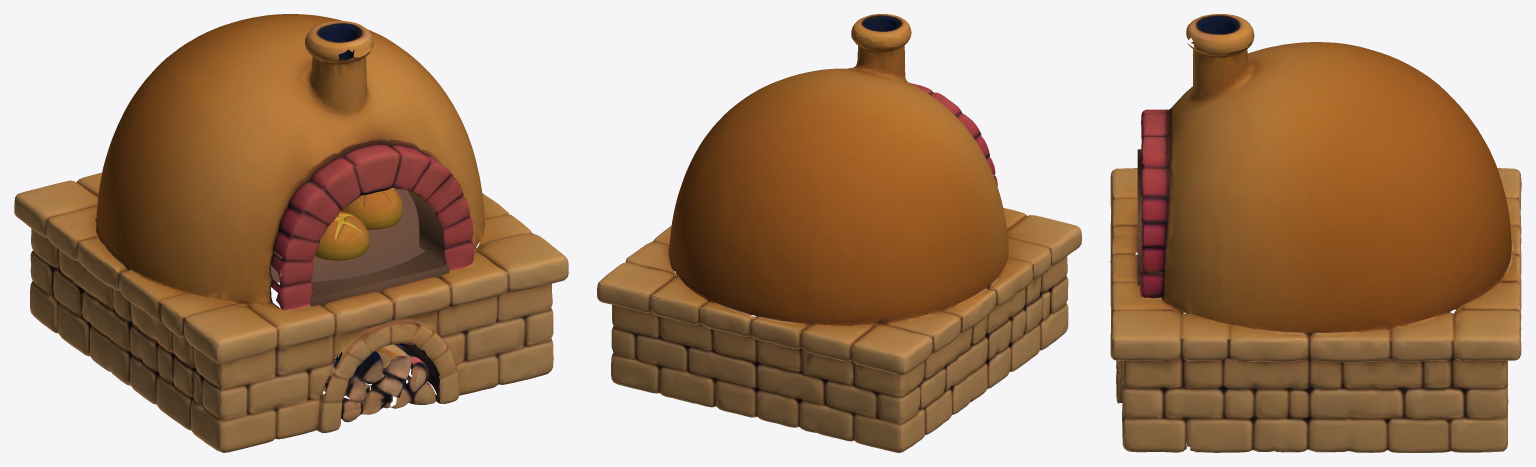
File: bread-oven.glb
The picture shows the model from 3 angles, left to right: view 1: azimuth 30°, elevation 25°; view 2: azimuth 150°, elevation 25°; view 3: azimuth 270°, elevation 25°; orthographic projection. The views are drawn at different scales.
Visible parts, largest first — view 1: oven.shell, oven.tunnel, oven.floor, baked6.loaf0, baked6.loaf2, baked5.loaf1; view 2: oven.shell; view 3: oven.shell, oven.tunnel.
Part boxes in pixels (box(x1,y1,x2,y2)): oven.shell: box(14, 14, 568, 452); oven.tunnel: box(310, 190, 449, 306); oven.floor: box(270, 188, 425, 282); baked6.loaf0: box(314, 211, 369, 260); baked6.loaf2: box(341, 188, 402, 229); baked5.loaf1: box(340, 188, 402, 229); oven.shell: box(597, 14, 1081, 452); oven.shell: box(1110, 14, 1521, 452); oven.tunnel: box(1137, 149, 1163, 285).
Bounding box in the file's own units: 3.91 × 3.65 × 3.9.
Materials: 7 (4 with a texture image).
